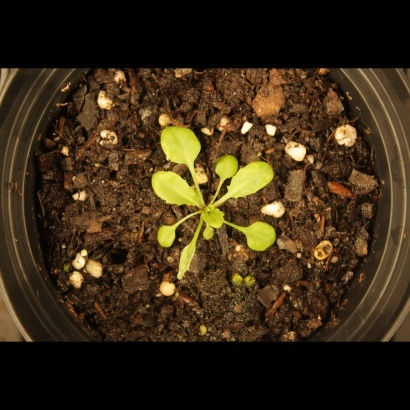leaf: (155, 123, 211, 168), (147, 167, 200, 212), (229, 160, 278, 204), (241, 216, 281, 258), (171, 236, 200, 282), (213, 149, 240, 180), (152, 221, 179, 249), (201, 205, 226, 230)
